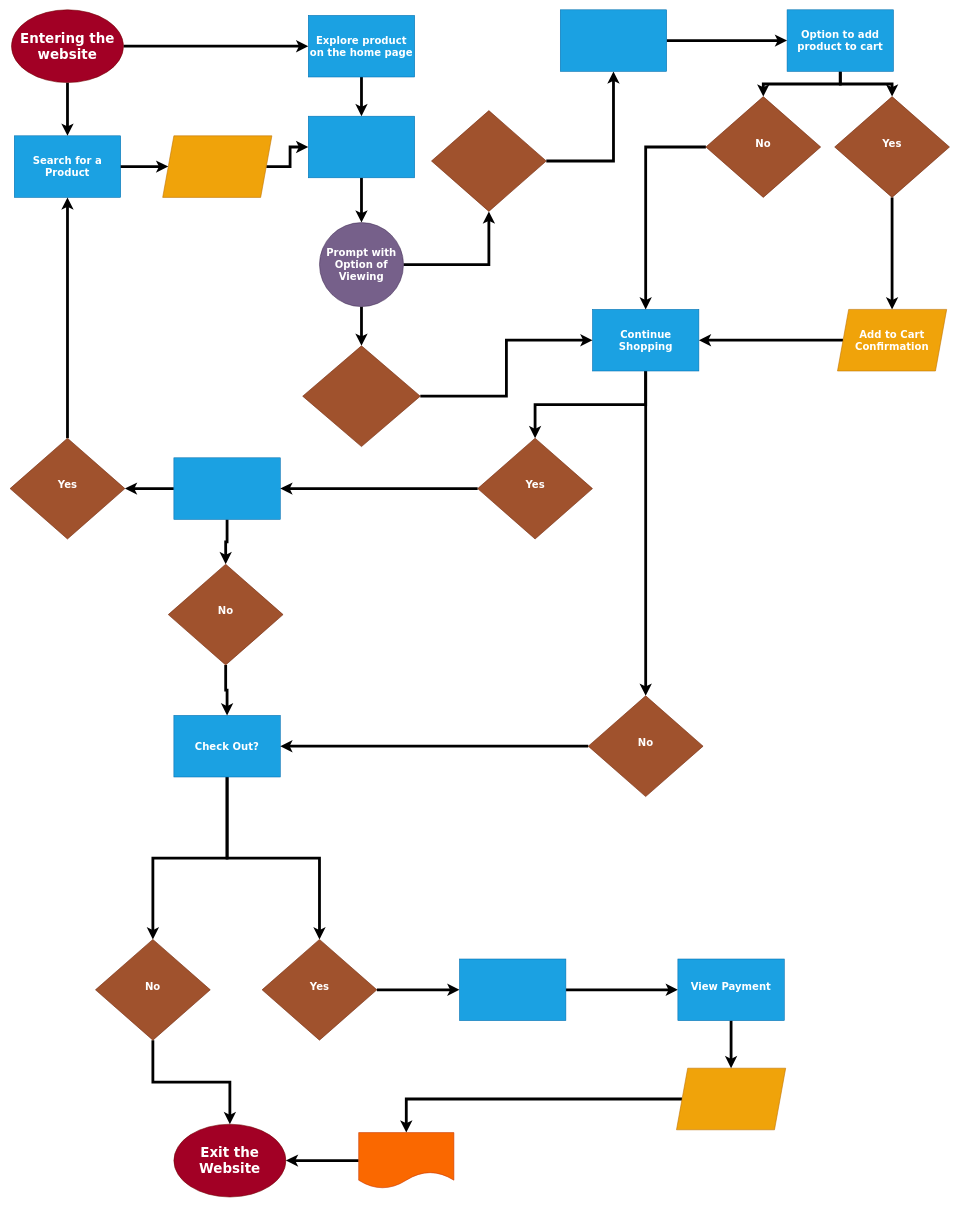
The diagram is 959 pixels wide and 1212 high, and some of its shapes have lost their labels. Each missing label, with the centre of its shape:
"Confirmation Screen of payment & email reciept" belongs at pixel 406 1160.
"Input of payment information" belongs at pixel 731 1099.
"Look over Product" belongs at pixel 361 147.
"No : Choose to view the product" belongs at pixel 361 396.
"Product Webpage Opens" belongs at pixel 613 40.
"Provide Input to Website" belongs at pixel 217 166.
"Search for a new Product" belongs at pixel 226 488.
"View Cart Screen" belongs at pixel 512 989.
"Yes : Choose to view the product" belongs at pixel 488 160.
